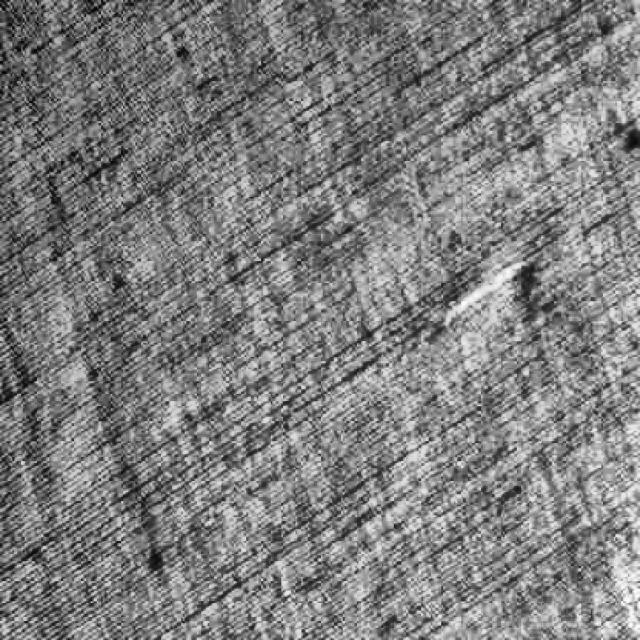thread_error: (428, 244, 544, 340)
